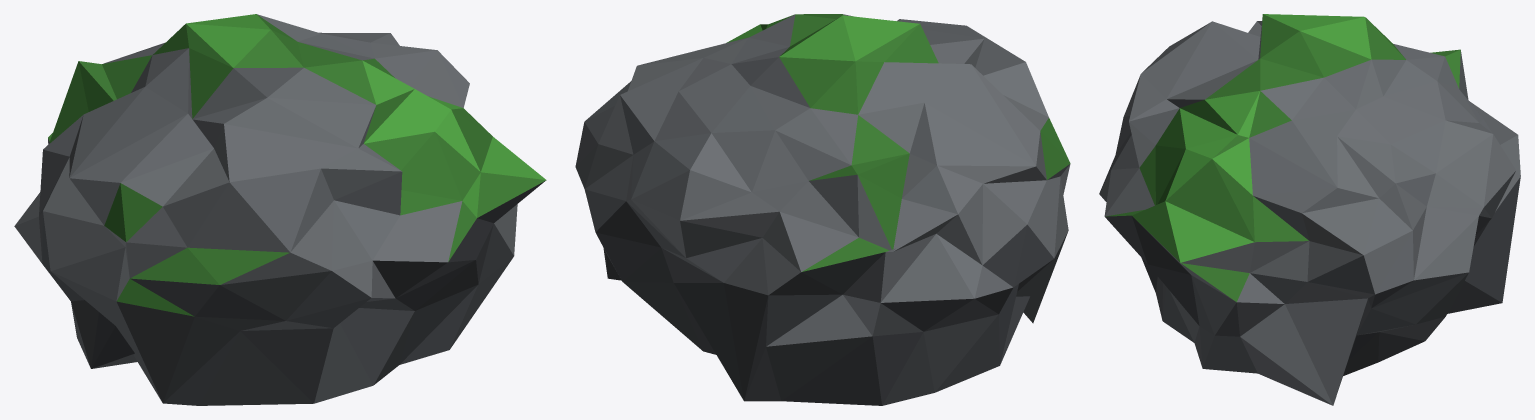
File: mossy_rock_c.glb
The picture shows the model from 3 angles, left to right: view 1: azimuth 30°, elevation 25°; view 2: azimuth 150°, elevation 25°; view 3: azimuth 270°, elevation 25°; orthographic projection. The views are drawn at different scales.
Visible parts, largest first — view 1: mossy_rock_c; view 2: mossy_rock_c; view 3: mossy_rock_c.
Part boxes in pixels (box(x1,y1,x2,y2)): mossy_rock_c: box(14, 14, 546, 405); mossy_rock_c: box(575, 14, 1070, 405); mossy_rock_c: box(1099, 14, 1520, 405).
Size of the model in its own units: 2.86 by 1.98 by 2.58.
